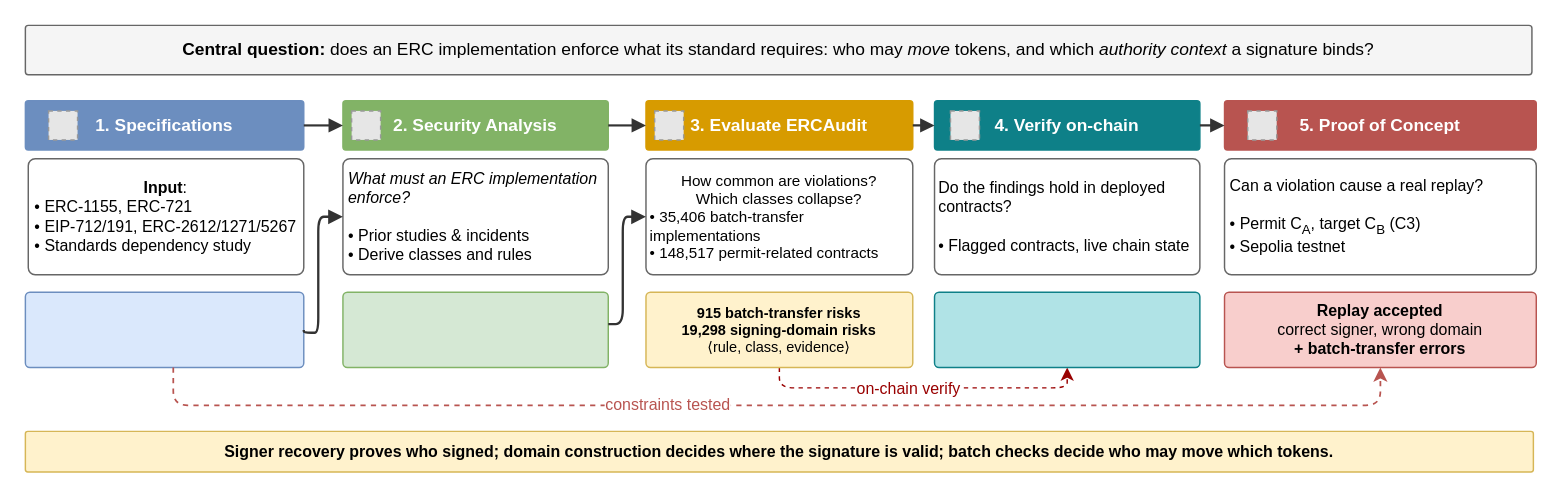
Image size: 1562x497. Some labels were removed from this diagram. Grey dashed boxes stand in for pictures. Here are the shapes that lost their labels. From the top down, the centre of each, then its label:
the point at 164,329: Threat model, replay condition & constraints
the point at 474,329: 10 risk classes: 5 batch + 5 domain 17 rules: 8 + 9 (R1–R9) → ERCAudit analyzer
the point at 1066,329: Confirmed / refuted / unresolved per rule
